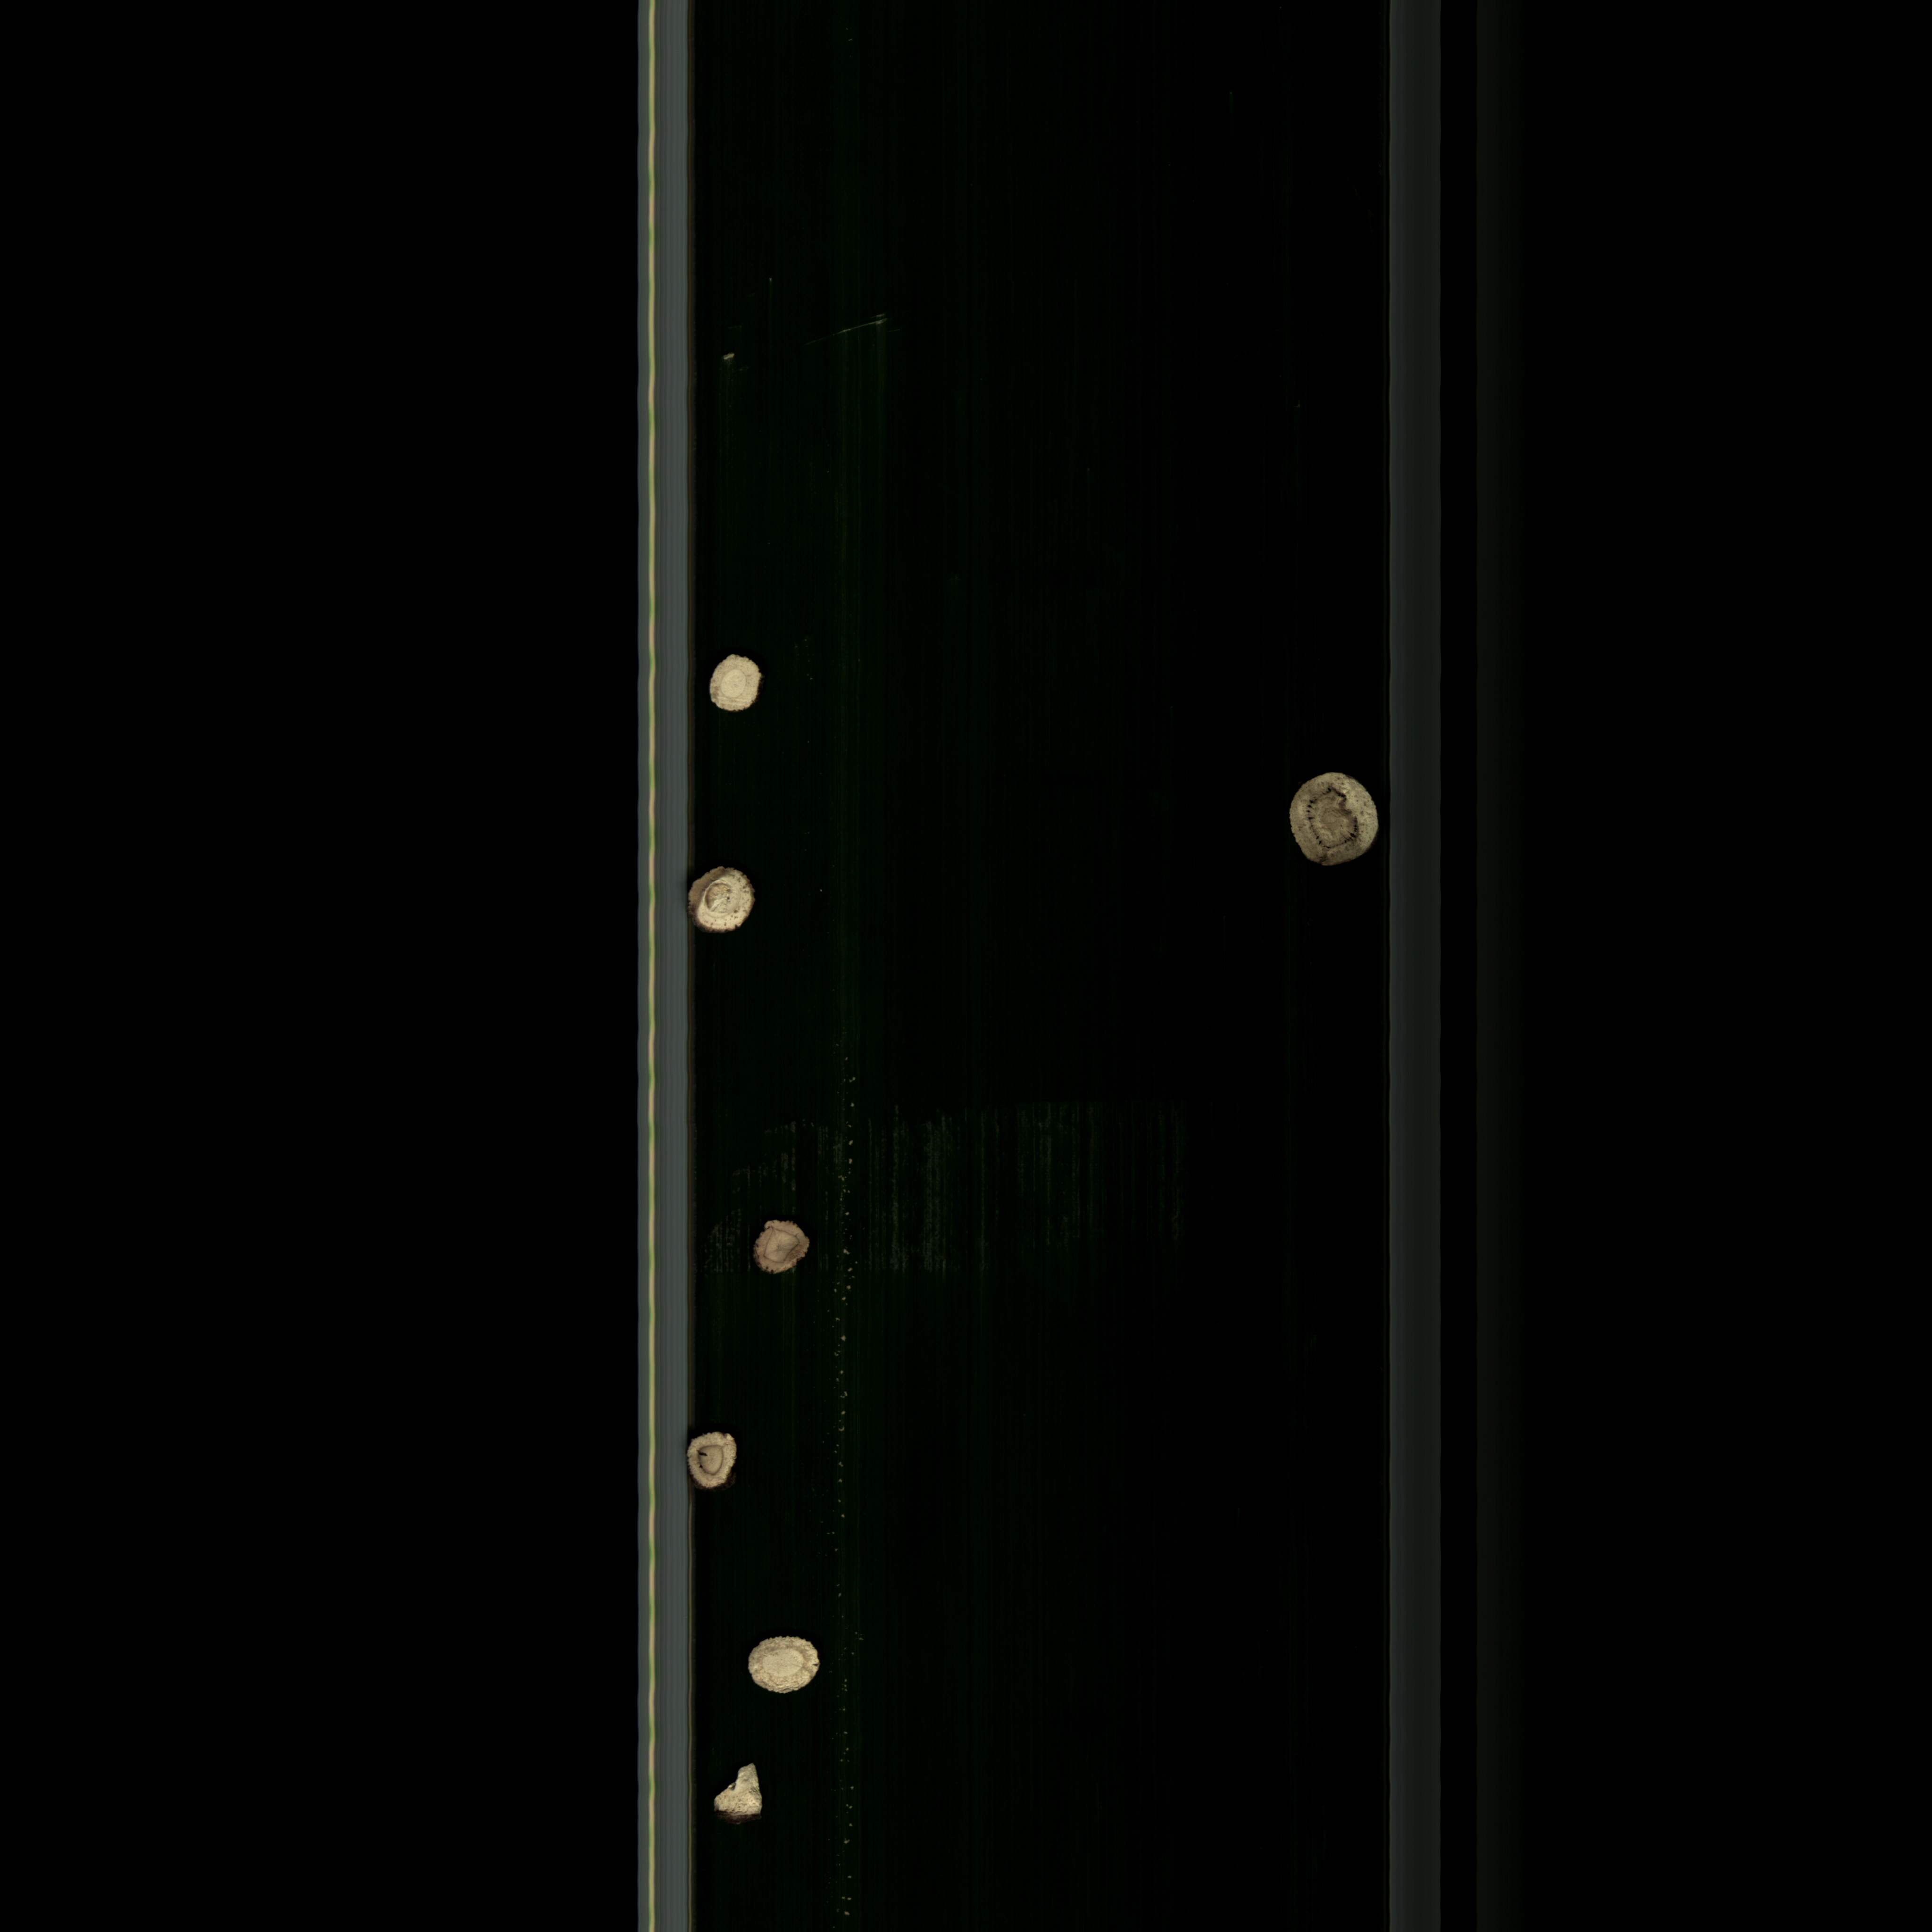debris: (709, 1759, 773, 1828)
hole: (683, 1422, 738, 1495)
moldy: (1283, 770, 1391, 872), (681, 856, 755, 941), (743, 1212, 819, 1279)
